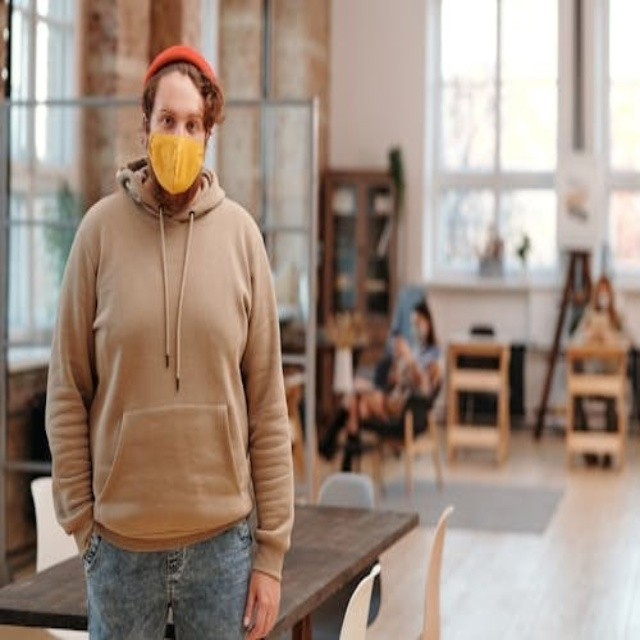Mascara: (143, 121, 206, 194)
Sin_gafas: (147, 98, 204, 127)
Sin_guantes: (239, 563, 280, 636)
